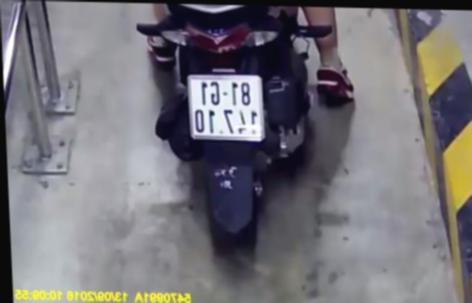License_Plate: (176, 67, 275, 146)
